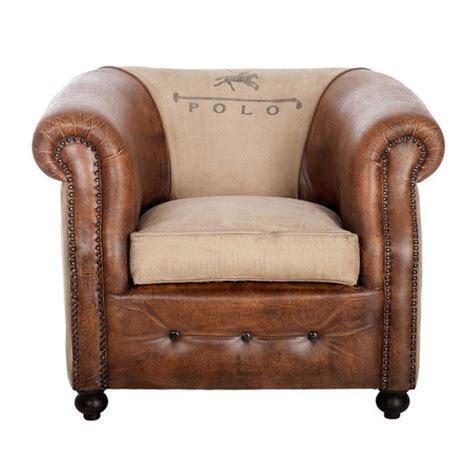cuero: (33, 65, 445, 390)
